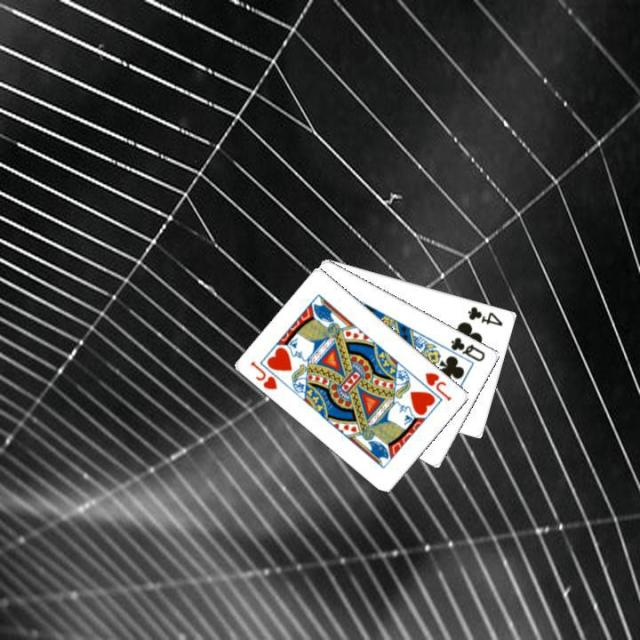4C: (464, 302, 505, 327)
JH: (422, 368, 454, 403), (247, 357, 279, 391)
QC: (447, 334, 487, 364)
